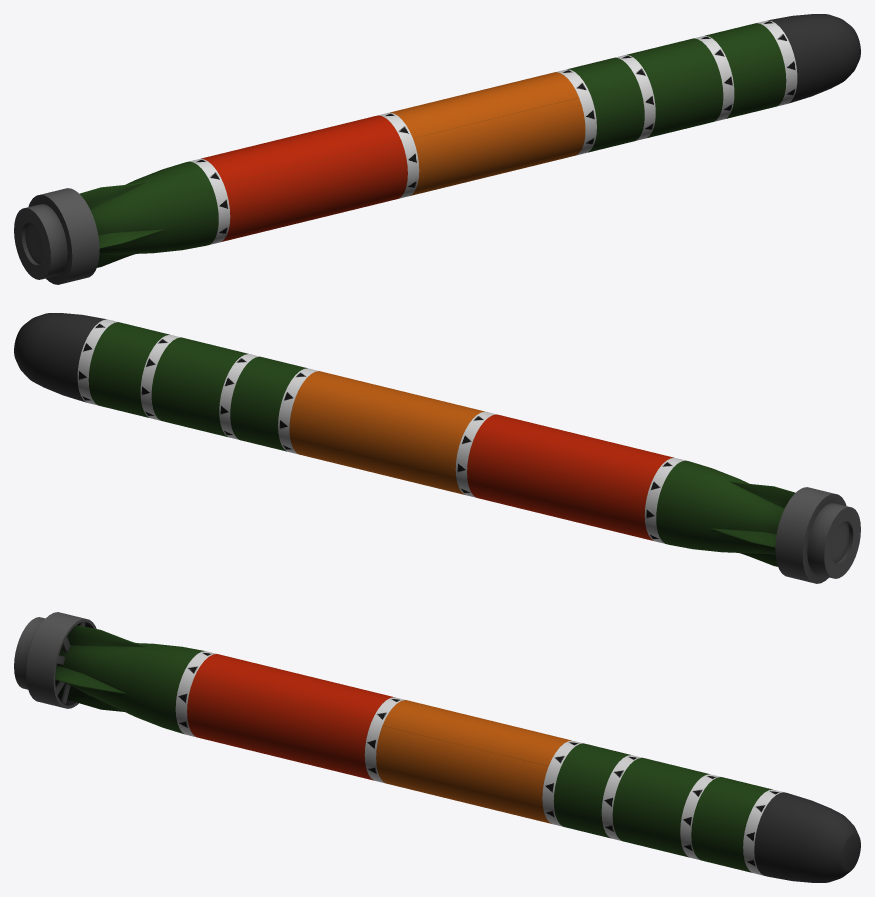
File: torpedo_mk48.dae
The picture shows the model from 3 angles, top to bottom: view 1: azimuth 30°, elevation 25°; view 2: azimuth 150°, elevation 25°; view 3: azimuth 330°, elevation 25°; orthographic projection.
Visible parts, largest first — view 1: Mark 48; view 2: Mark 48; view 3: Mark 48.
Boxes of the visible parts, x1,y1,x2,y2 form: Mark 48: [14, 14, 860, 284]; Mark 48: [14, 313, 860, 583]; Mark 48: [14, 612, 860, 882].
Size of the model in its own units: 5.81 by 0.5667 by 0.5667.
1 material, 1 textured.
